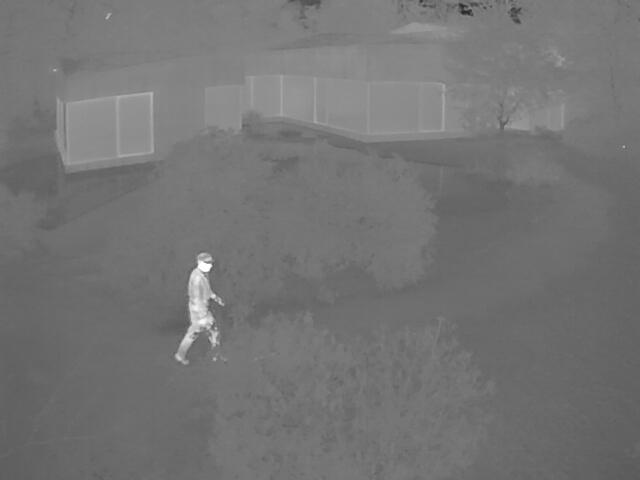person: (171, 252, 227, 365)
